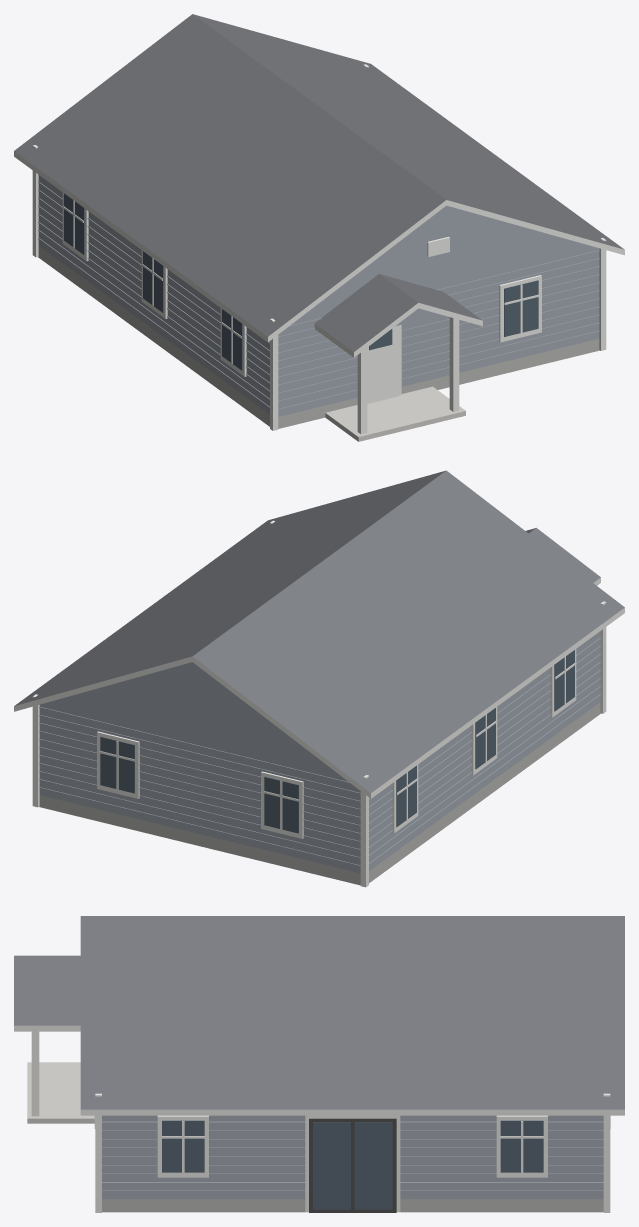
Rendered from delta-cottage.glb.
3 views of the same model, one above another, from view 1: azimuth 30°, elevation 25°; view 2: azimuth 150°, elevation 25°; view 3: azimuth 270°, elevation 25° (orthographic). The views are drawn at different scales.
Parts seen in each view (by area): view 1: The Delta (cottage); view 2: The Delta (cottage); view 3: The Delta (cottage).
Boxes of the visible parts, bbox=[...] form: The Delta (cottage): bbox=[14, 14, 624, 441]; The Delta (cottage): bbox=[14, 470, 624, 887]; The Delta (cottage): bbox=[14, 916, 624, 1212].
Bounding box in the file's own units: 9.29 × 4.88 × 12.85.
